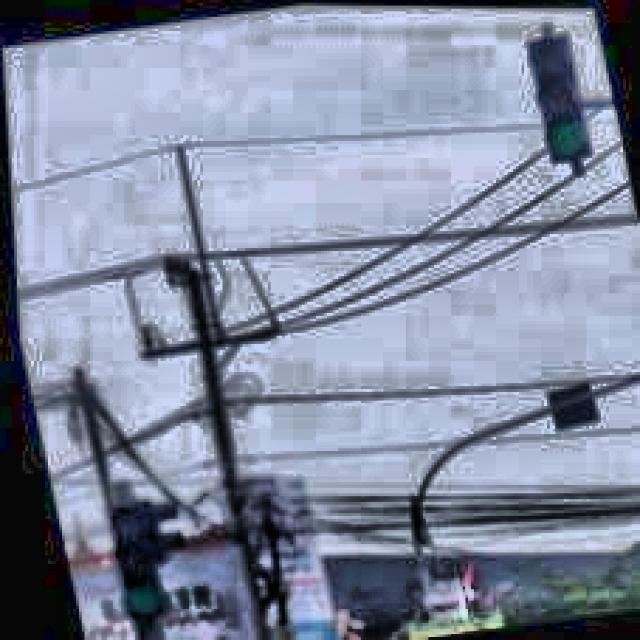green: (521, 28, 595, 164), (96, 499, 163, 623)
